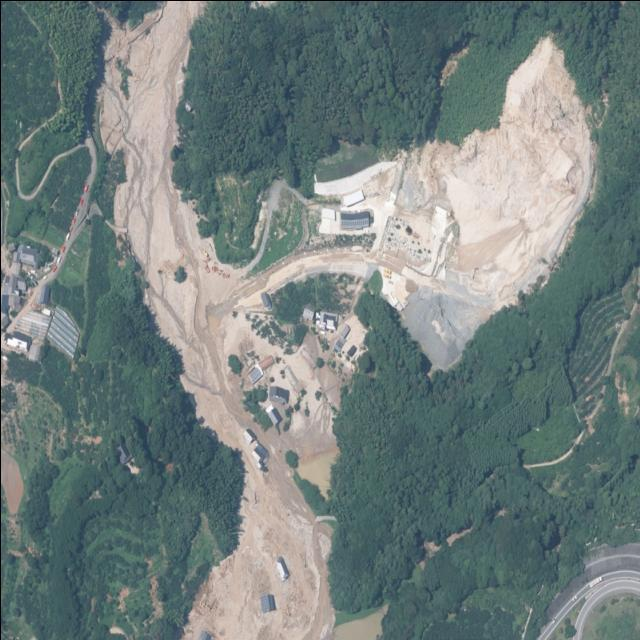landslide: (98, 0, 595, 639), (395, 36, 593, 367)
